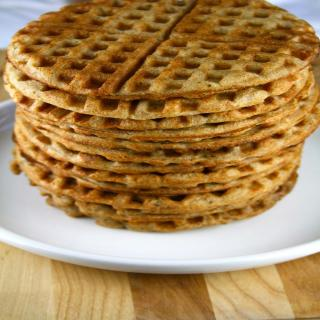Cookie: (1, 0, 320, 232)
Waffle: (2, 0, 320, 233)
